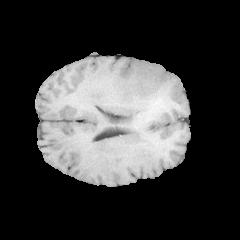glioma: (72, 60, 177, 142)
